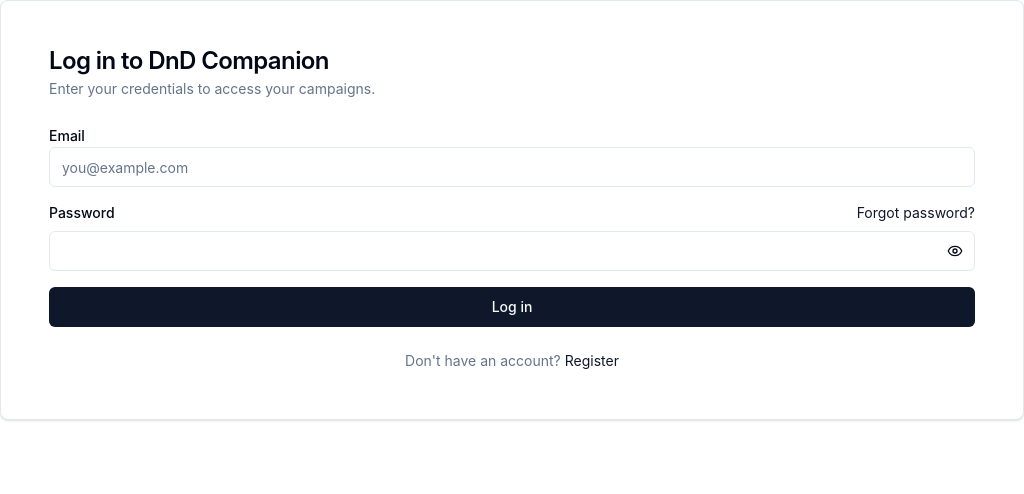
Test: LoginPage › shows validation errors for invalid form input
Click the button "Log in" at point(512, 307), box [49,287,975,327]
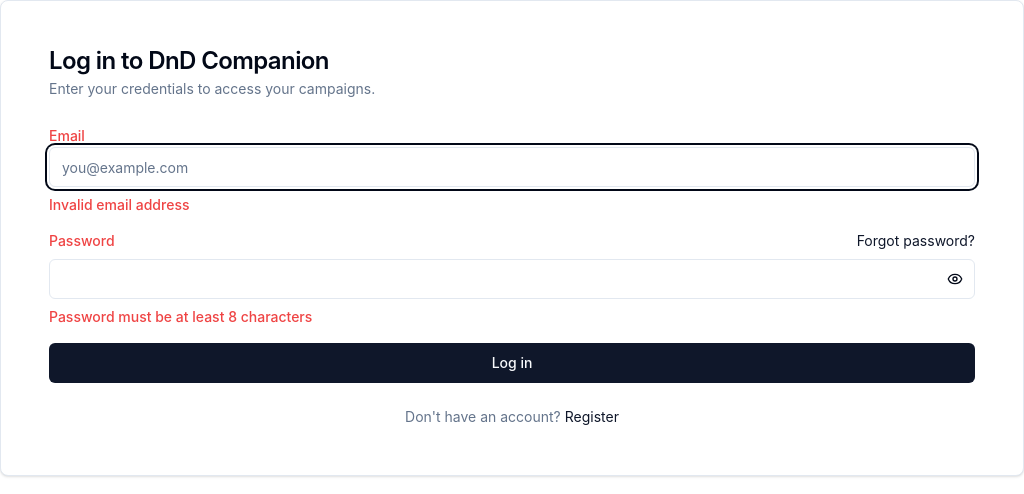
Expected: the text "Invalid email address" is shown, [49,196,190,213]
Expected: the text "Password must be at least 8 characters" is shown, [49,308,312,325]
